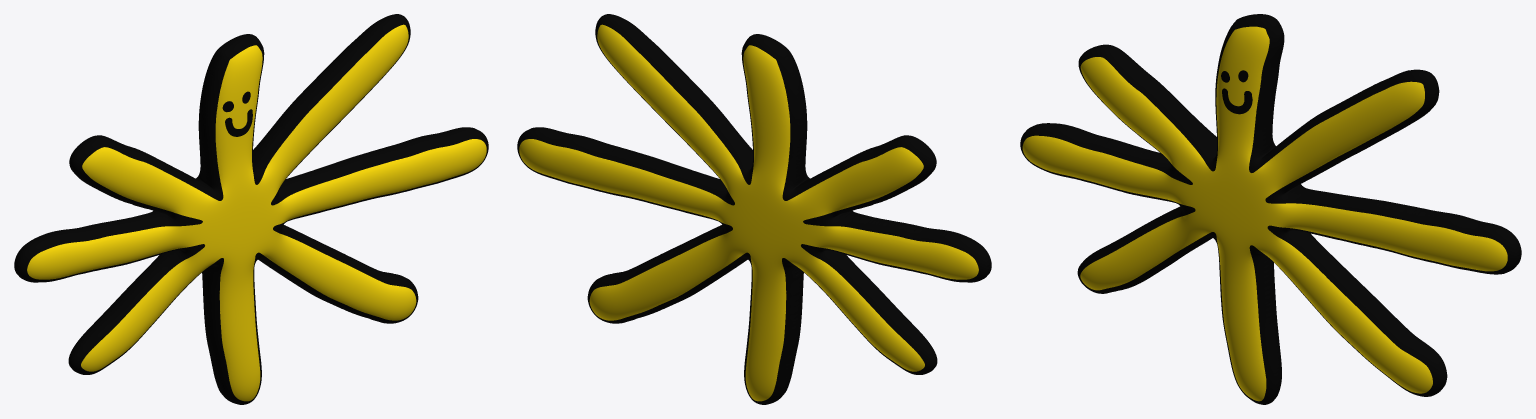
File: iris.obj
3 renders of one model, left to right at view 1: azimuth 30°, elevation 25°; view 2: azimuth 150°, elevation 25°; view 3: azimuth 330°, elevation 25°, orthographic. The views are drawn at different scales.
Parts seen in each view (by area): view 1: Iris_Body; view 2: Iris_Body; view 3: Iris_Body.
Part boxes in pixels (x1,y1,x2,y2): Iris_Body: (14, 14, 488, 404); Iris_Body: (517, 14, 991, 404); Iris_Body: (1020, 14, 1521, 404).
Size of the model in its own units: 2.84 by 2.12 by 0.2727.
